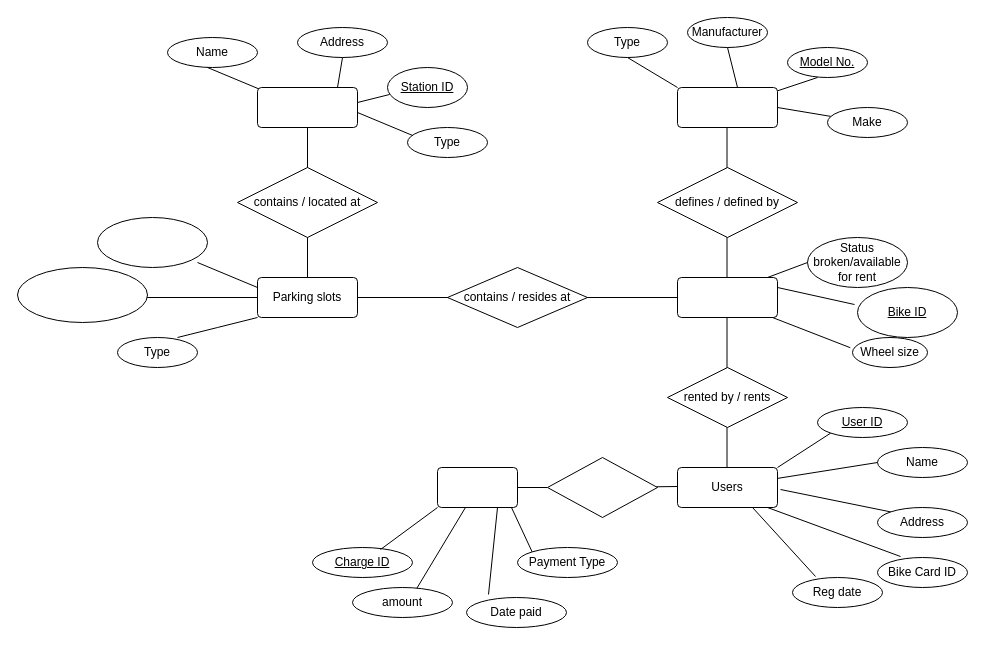
This 985x645 diagram has some shape labels left out. The centre of each missing label's shape, as x and y in pixels:
"Bike Definitions" goes at point (727, 107).
"Bike Rental instances" goes at point (727, 297).
"Charges" goes at point (477, 487).
"Parking Slot ID" goes at point (152, 242).
"Pays / charged to" goes at point (602, 487).
"Stations" goes at point (307, 107).
"Status (contains bike-yes/no)" goes at point (82, 294).
